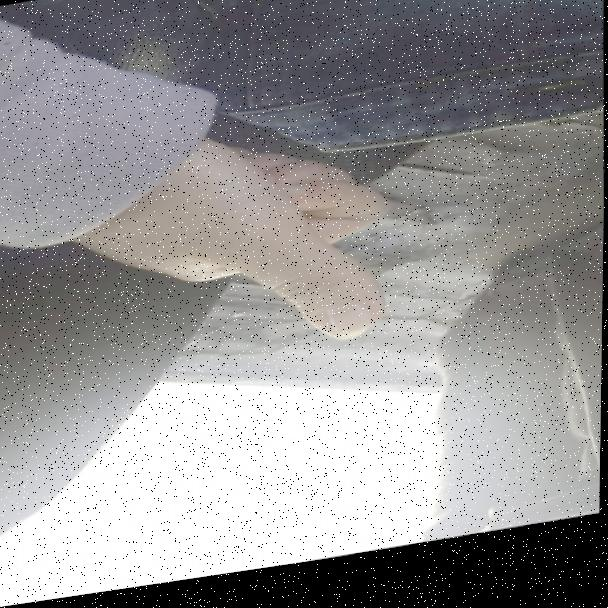five: (54, 132, 432, 400)
